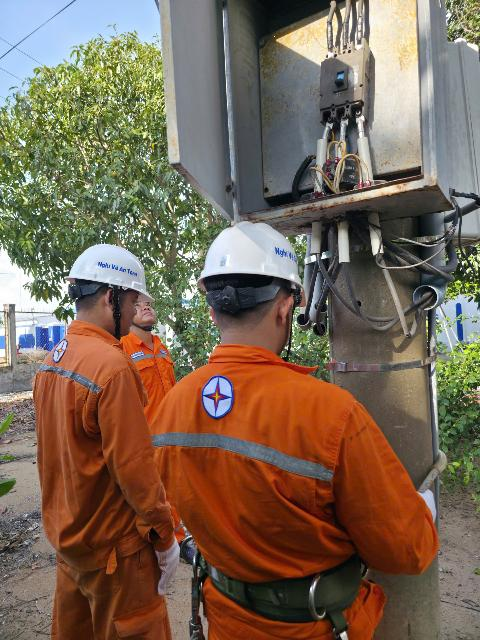gloves: (412, 477, 453, 531), (145, 544, 179, 601)
harness: (181, 532, 376, 618)
helmet: (188, 220, 328, 295), (64, 227, 166, 312)
